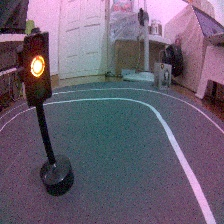amber: (14, 27, 79, 192)
